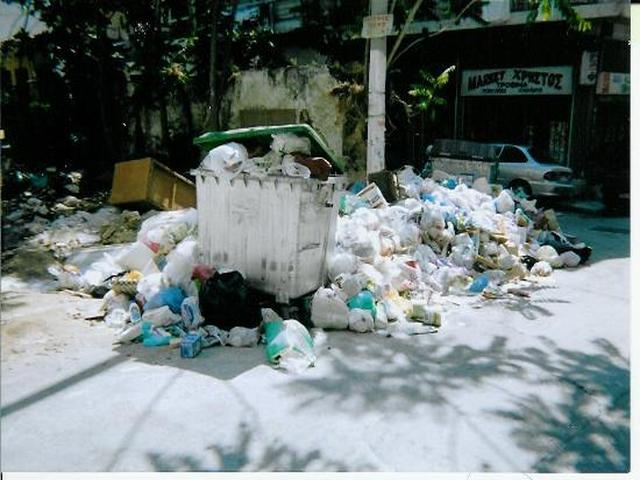garbage: (346, 204, 523, 299), (93, 226, 208, 342)
